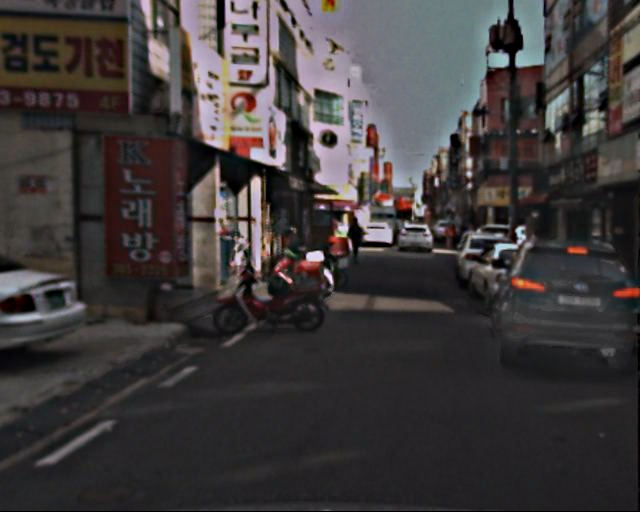person: (347, 213, 367, 263), (442, 223, 462, 255)
